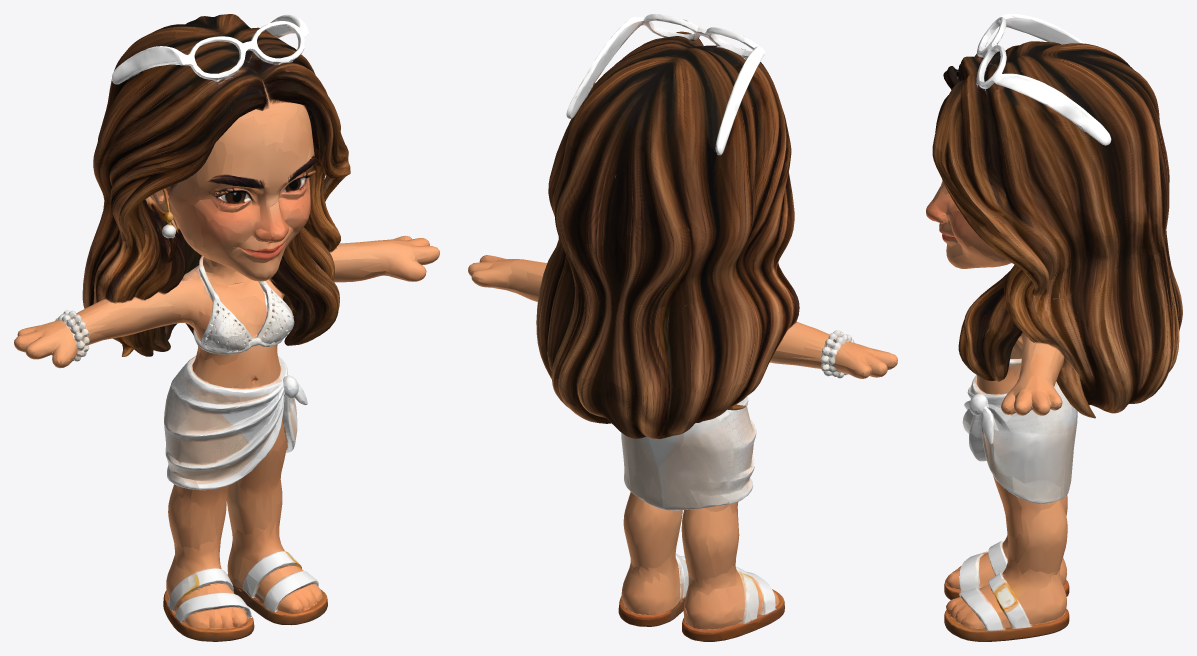
File: caro_src.glb
3 views of the same model, side by side, from view 1: azimuth 30°, elevation 25°; view 2: azimuth 150°, elevation 25°; view 3: azimuth 270°, elevation 25° (orthographic). The views are drawn at different scales.
Parts seen in each view (by area): view 1: Mesh_0; view 2: Mesh_0; view 3: Mesh_0.
Part boxes in pixels (<box>): Mesh_0: <box>14,14,439,641</box>; Mesh_0: <box>468,14,897,641</box>; Mesh_0: <box>926,14,1182,641</box>.
Size of the model in its own units: 1.42 by 1.9 by 0.7721.
1 material, 1 textured.
